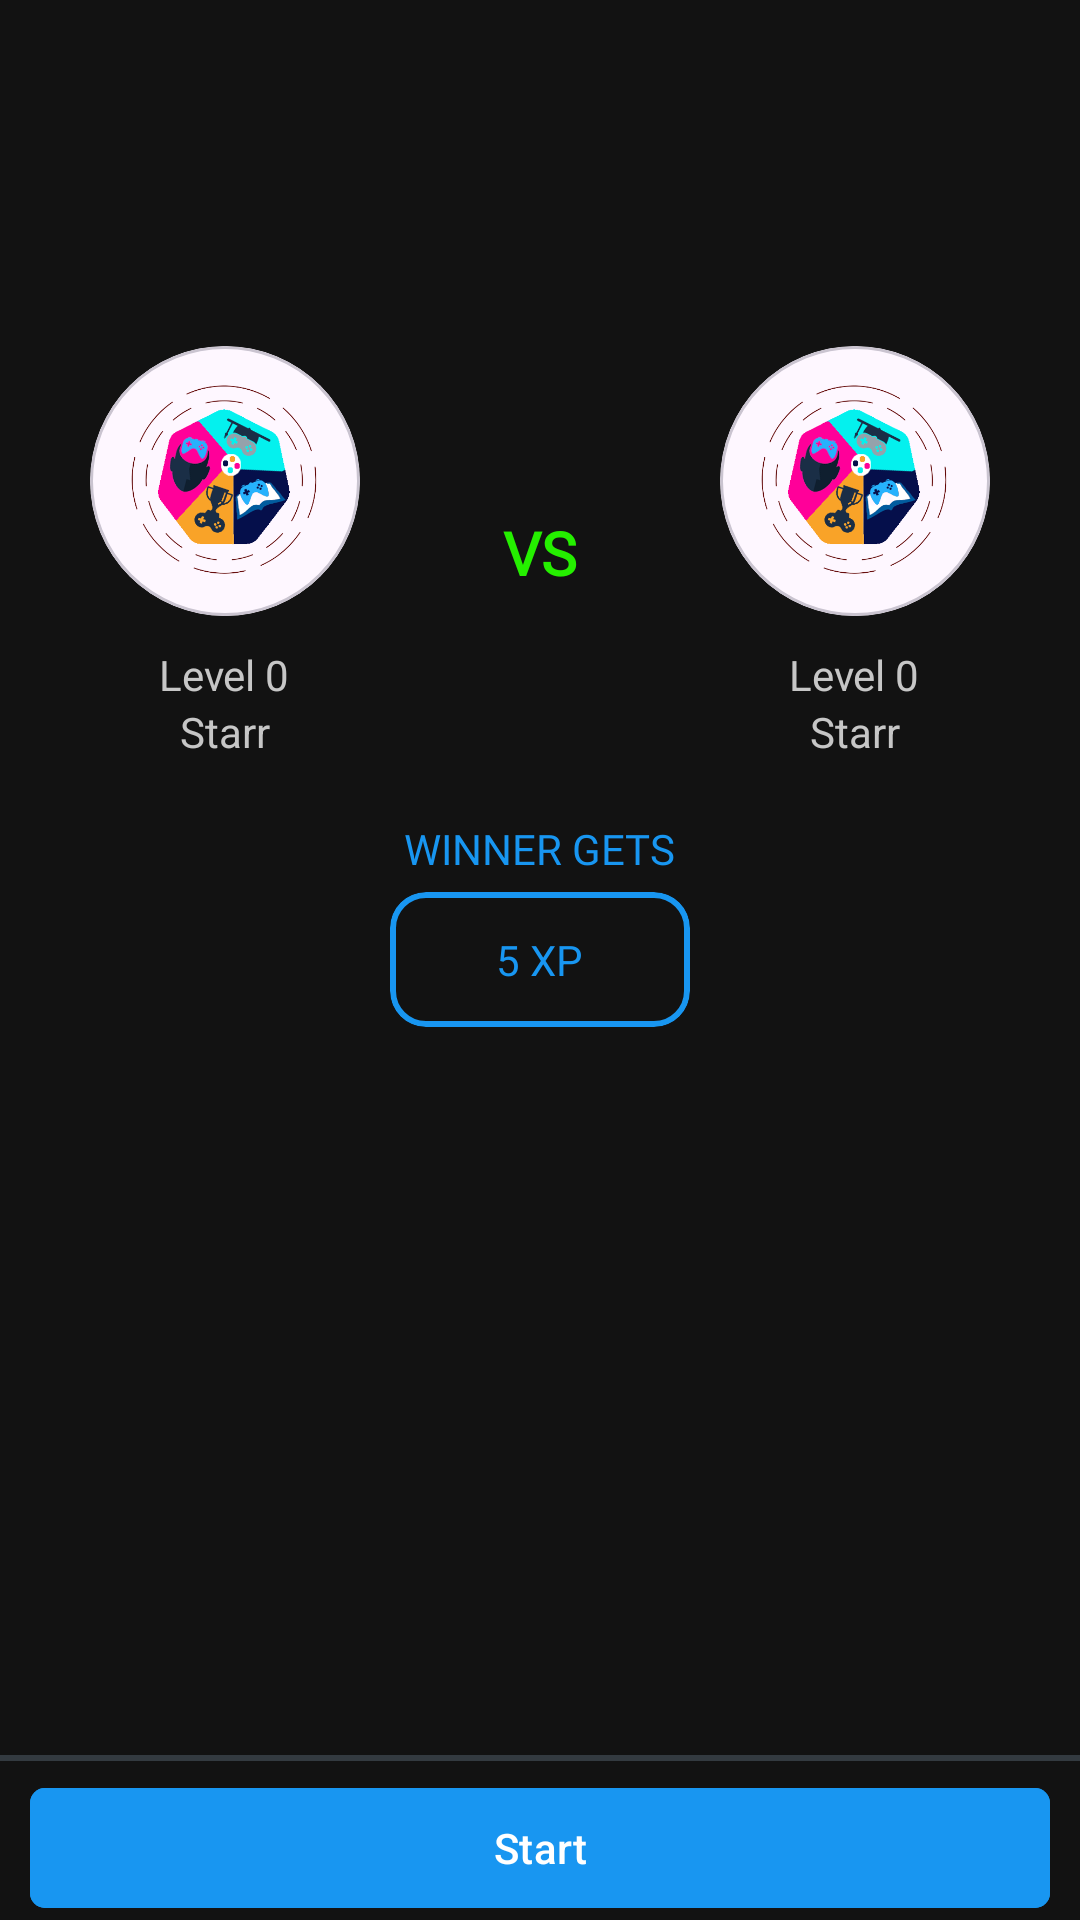

Icons on this 1080px×1920px Android screen, each with its box as BBox(x1, y1, x2, y2):
game: BBox(90, 346, 360, 616), BBox(720, 346, 990, 616)
